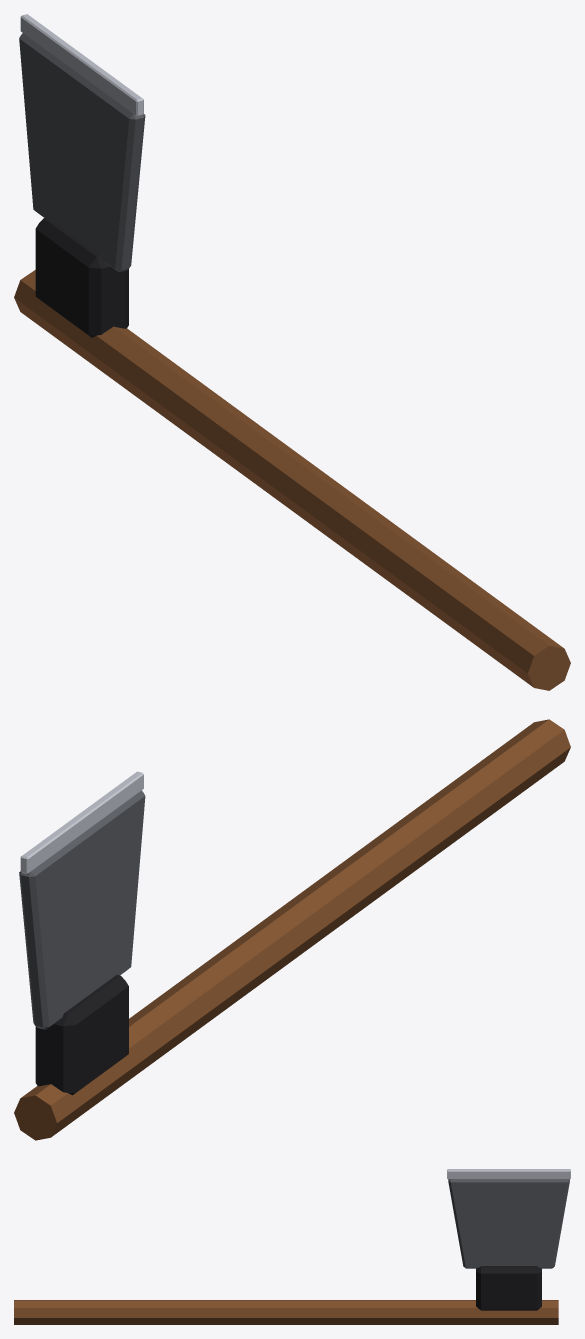
The model's file is hache.glb.
3 renders of one model, top to bottom at view 1: azimuth 30°, elevation 25°; view 2: azimuth 150°, elevation 25°; view 3: azimuth 270°, elevation 25°, orthographic. The views are drawn at different scales.
Parts seen in each view (by area): view 1: hache; view 2: hache; view 3: hache.
Part boxes in pixels (bbox=[...]): hache: bbox=[14, 14, 570, 690]; hache: bbox=[14, 719, 570, 1140]; hache: bbox=[14, 1169, 570, 1324].
Bounding box in the file's own units: 0.032 × 0.207 × 0.675.
